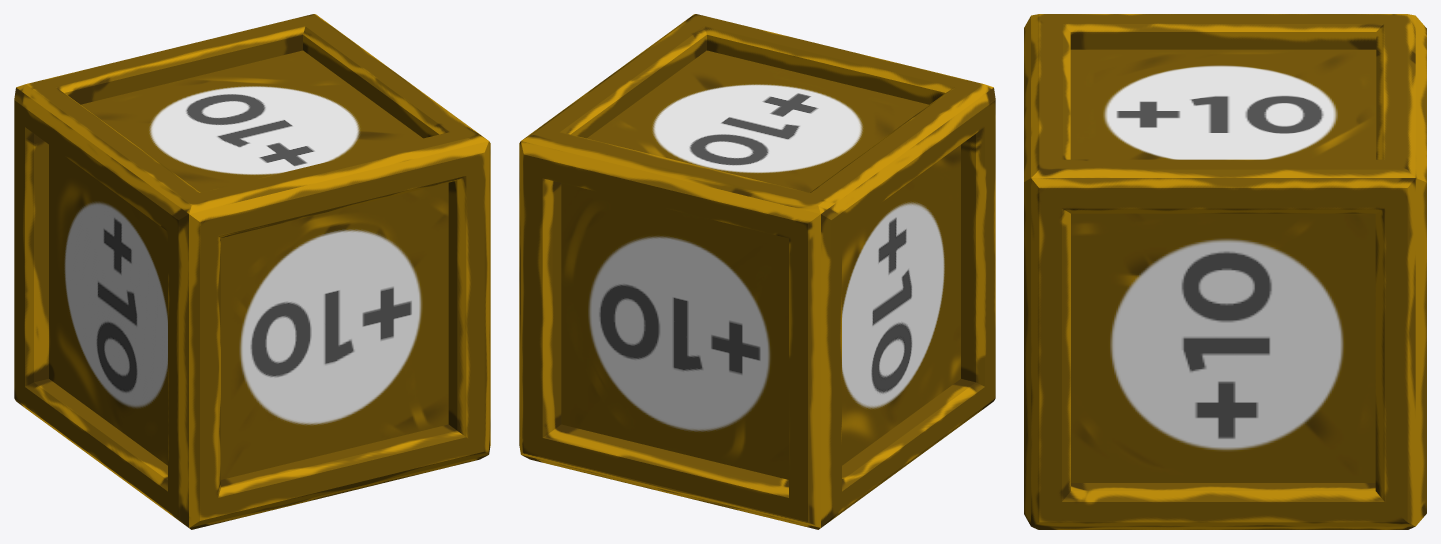
The model's file is Caixa.fbx.
3 views of the same model, side by side, from view 1: azimuth 30°, elevation 25°; view 2: azimuth 150°, elevation 25°; view 3: azimuth 270°, elevation 25° (orthographic). The views are drawn at different scales.
Parts seen in each view (by area): view 1: Caixa; view 2: Caixa; view 3: Caixa.
Boxes of the visible parts, left/top/right/bottom form: Caixa: left=14, top=14, right=490, bottom=529; Caixa: left=519, top=14, right=995, bottom=529; Caixa: left=1024, top=14, right=1426, bottom=529.
Size of the model in its own units: 208 by 207 by 209.
